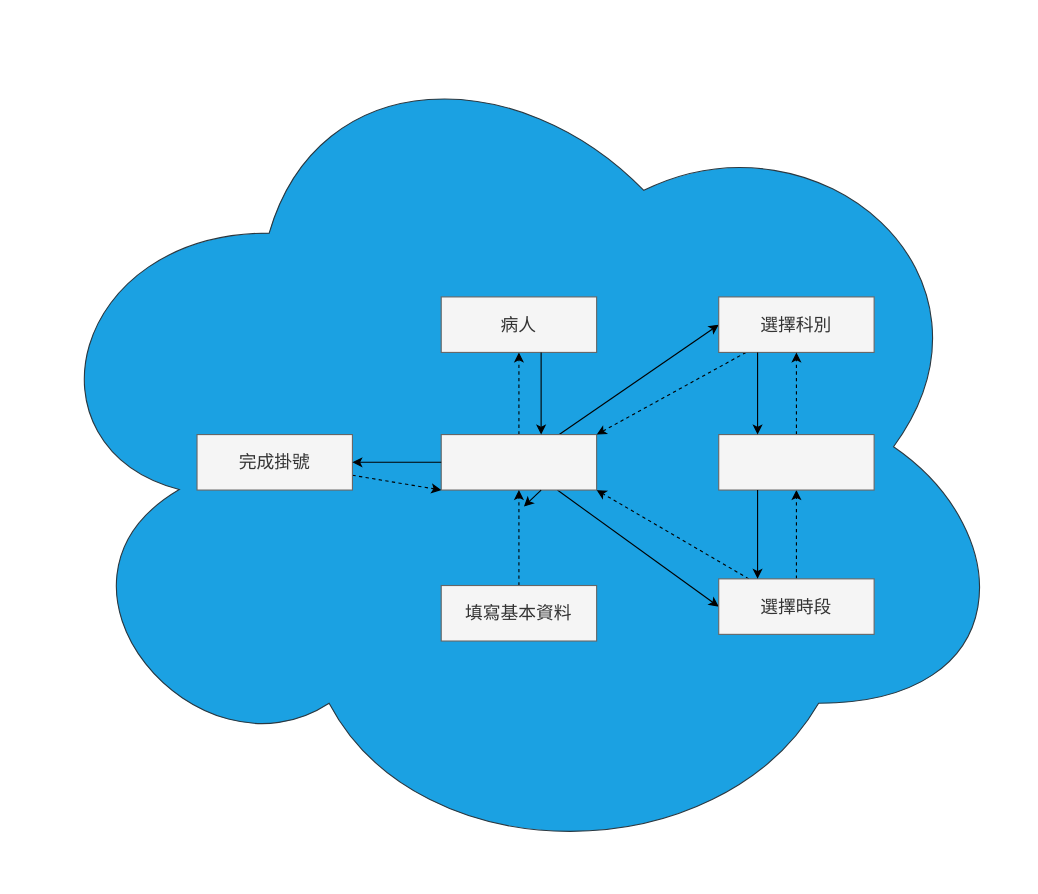
This 1038x894 diagram has some shape labels left out. The shapes that lost their labels are listed below. From the top down, each one's centre as x and y in pixels, then its label:
At (x=518, y=461): "醫院掛號網站".
At (x=796, y=461): "選擇醫生".
